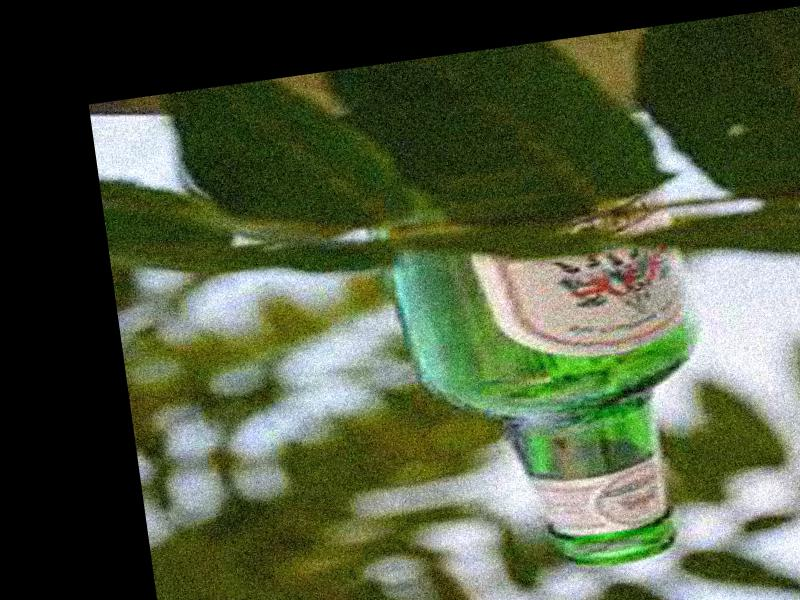Beer: (387, 179, 724, 588)
